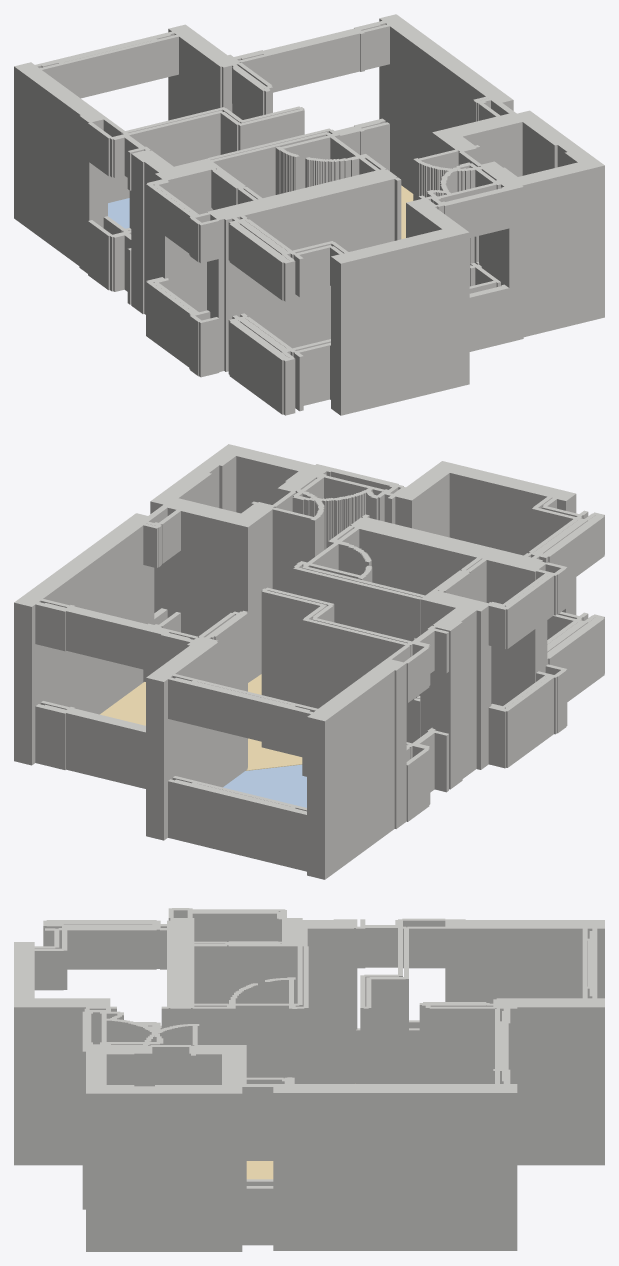
The picture shows the model from 3 angles, top to bottom: view 1: azimuth 30°, elevation 25°; view 2: azimuth 150°, elevation 25°; view 3: azimuth 270°, elevation 25°; orthographic projection. The views are drawn at different scales.
Parts seen in each view (by area): view 1: walls; view 2: walls, room:living:1, room:bedroom:0; view 3: walls, room:living:1.
Boxes of the visible parts, bbox=[...] form: walls: bbox=[14, 14, 604, 415]; walls: bbox=[14, 444, 604, 879]; room:living:1: bbox=[100, 674, 302, 770]; room:bedroom:0: bbox=[223, 764, 306, 807]; walls: bbox=[14, 908, 604, 1251]; room:living:1: bbox=[246, 1161, 273, 1179].
Size of the model in its own units: 7.04 by 2.8 by 9.48.
